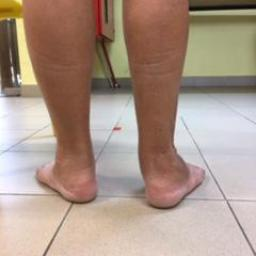Back View -Both Feet-: (20, 115, 228, 221)
